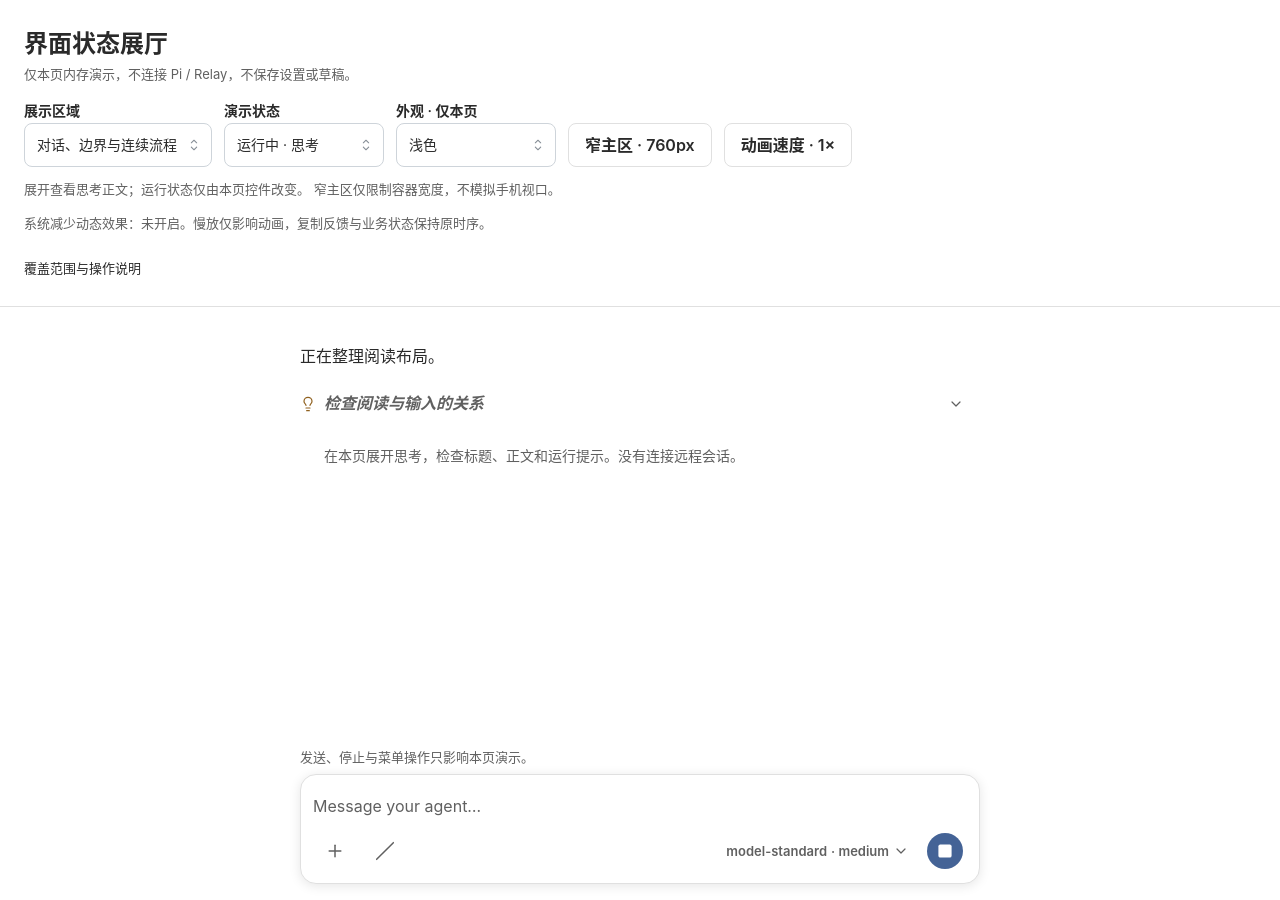
Test: reconnecting prevents send and explicitly recovers in memory
Type "恢复后仍保留" into the text box with placeholder "Message your agent…". click: (640, 807)
box: [313,785,967,829]
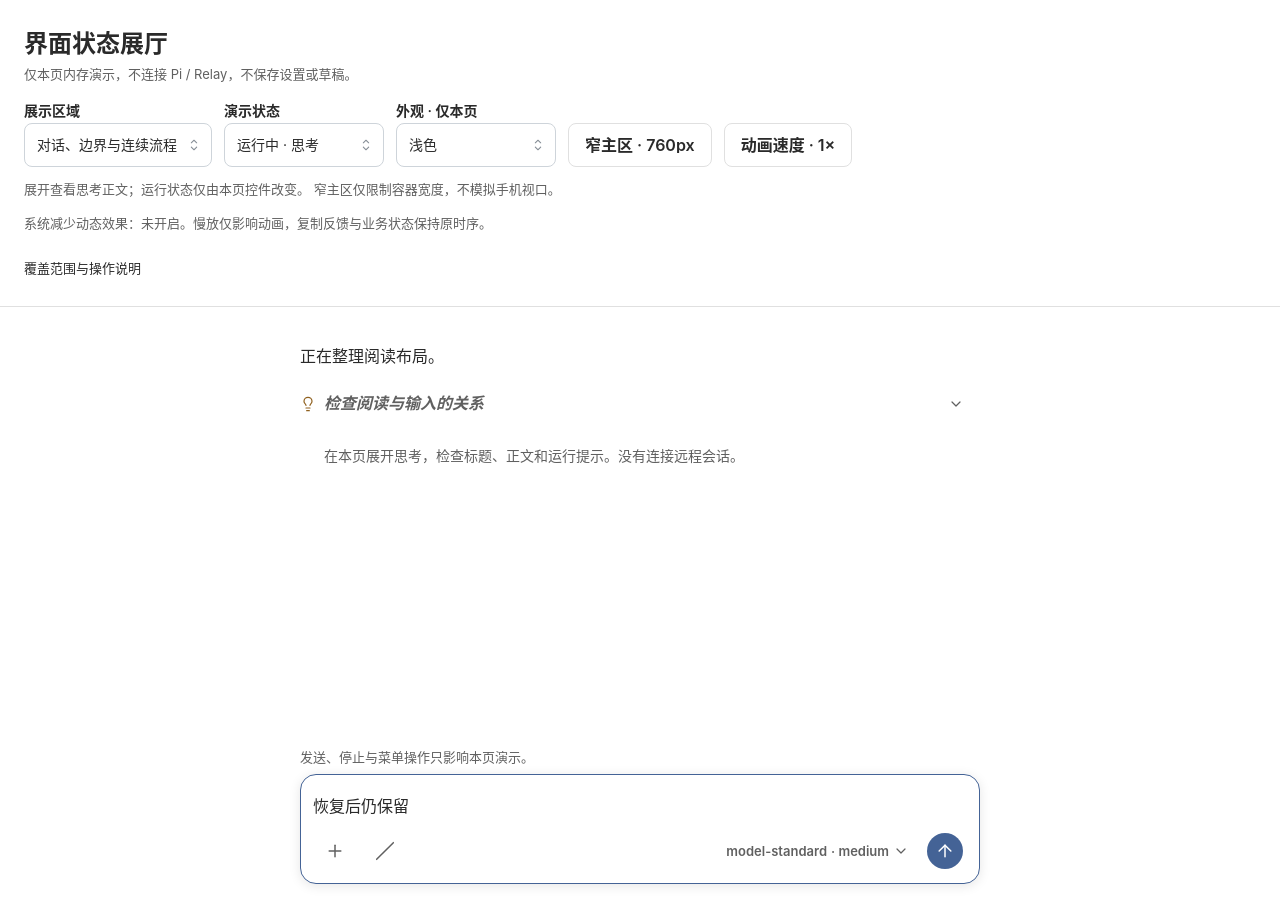
Select "重新连接" in the dropdown labelled "演示状态". click: (304, 145)
box: [224,123,384,167]
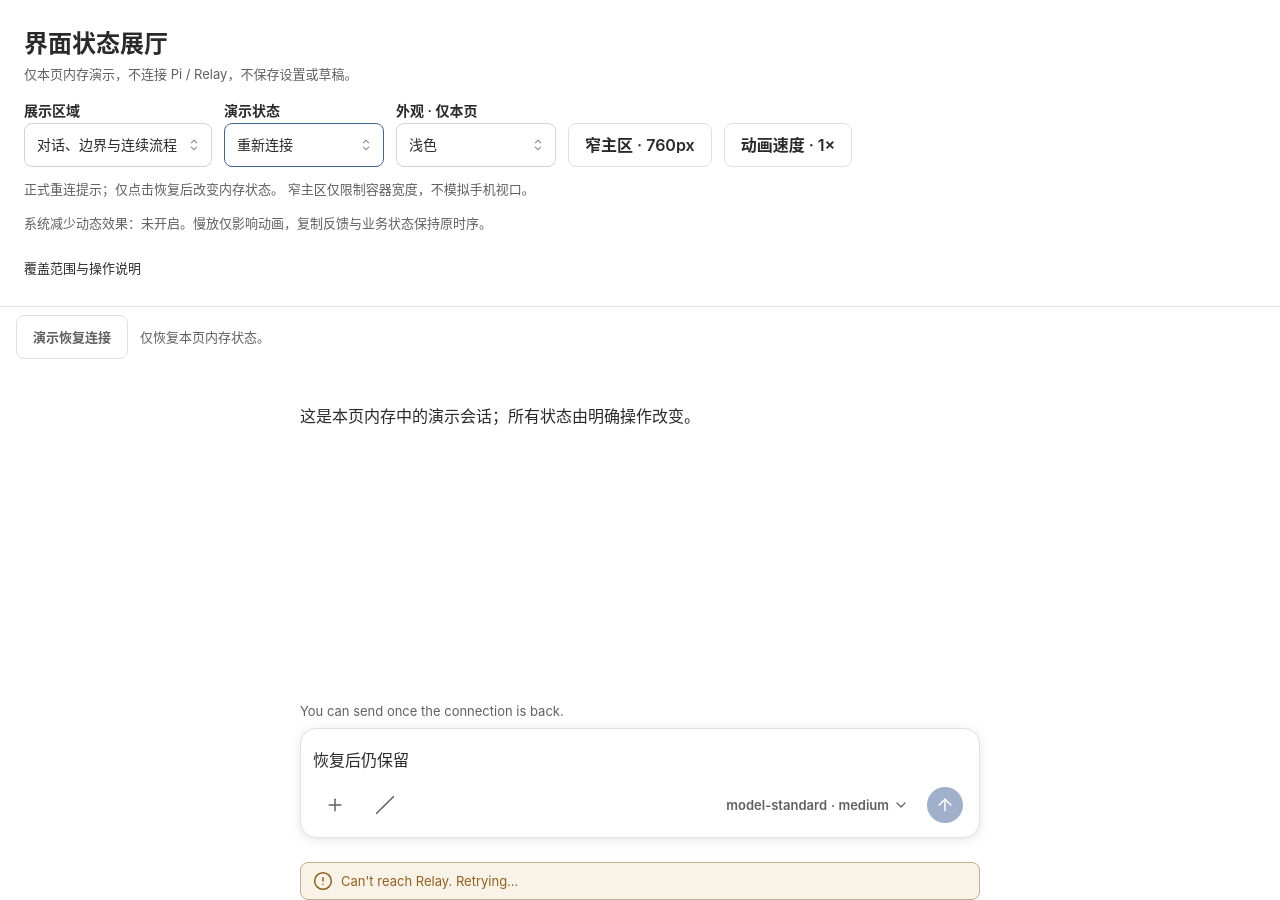
Check: the message "Can't reach Relay. Retrying…" is shown, box [300,862,980,899]
Check: the button named "Send message" is disabled, box [923,783,967,827]
Submit the form, box [300,703,980,838]
Check: the text "已演示发送" is not shown
Click the button "演示恢复连接". click: (72, 337)
box: [16,315,128,359]
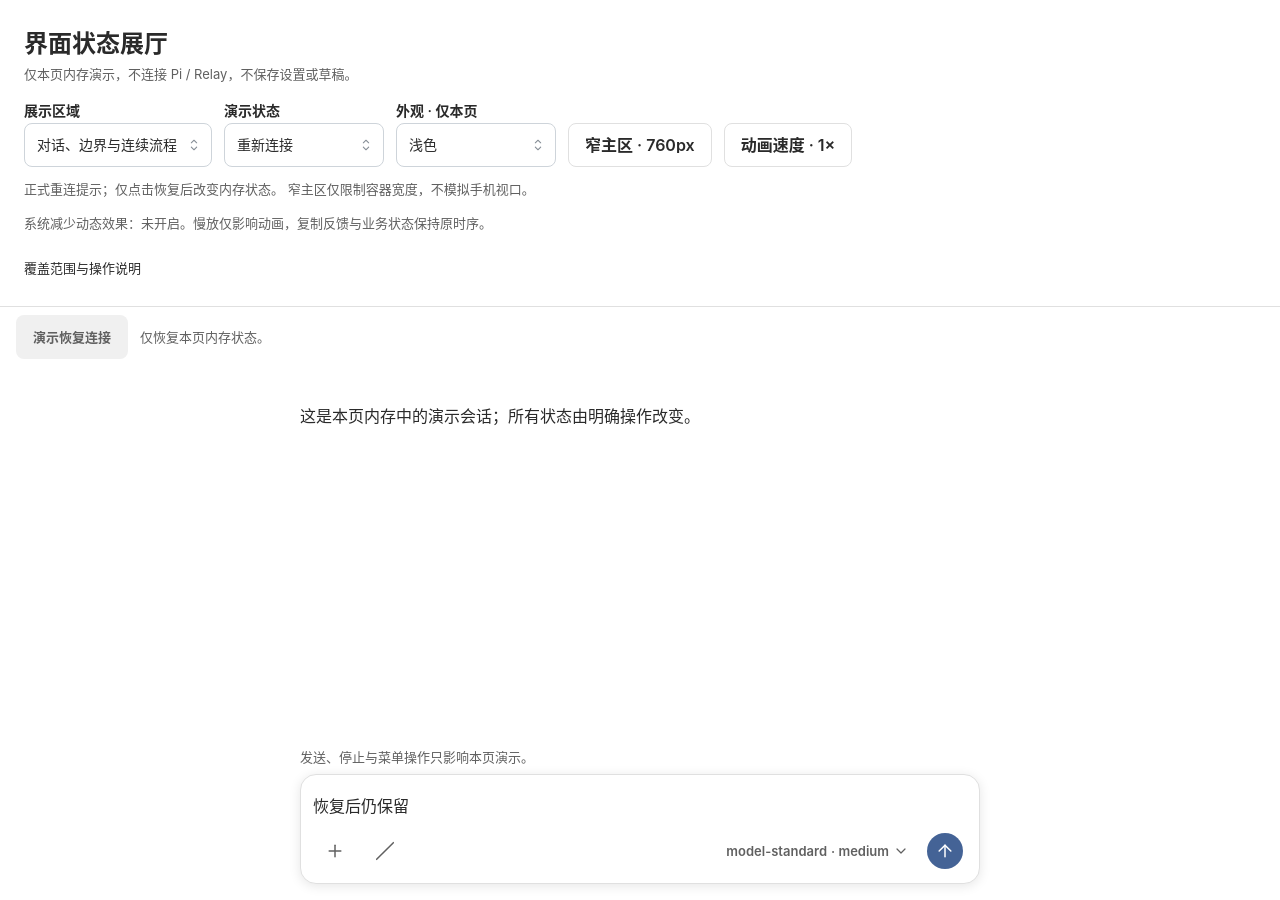
Check: the message "Can't reach Relay. Retrying…" is gone
Check: the button named "Send message" is enabled
Click the button named "Send message". click: (945, 851)
box: [923,829,967,873]
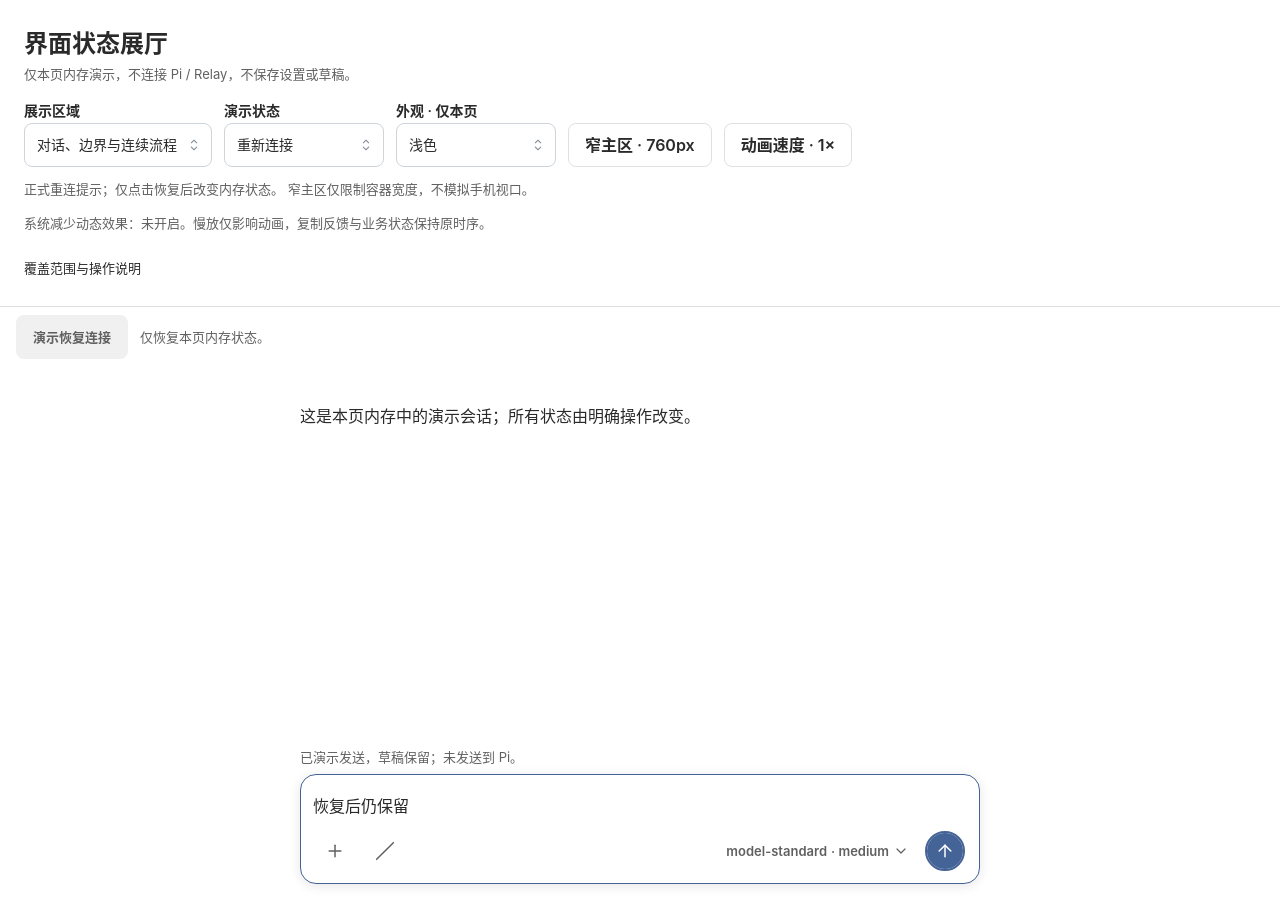
Check: the text "已演示发送，草稿保留；未发送到 Pi。" is shown, box [300,748,523,766]
